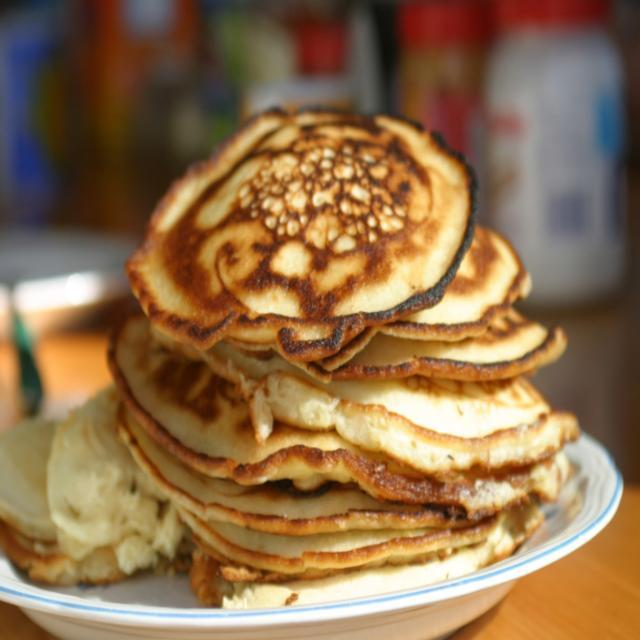Pancake: (108, 218, 580, 592), (123, 99, 473, 351), (0, 377, 168, 584)
